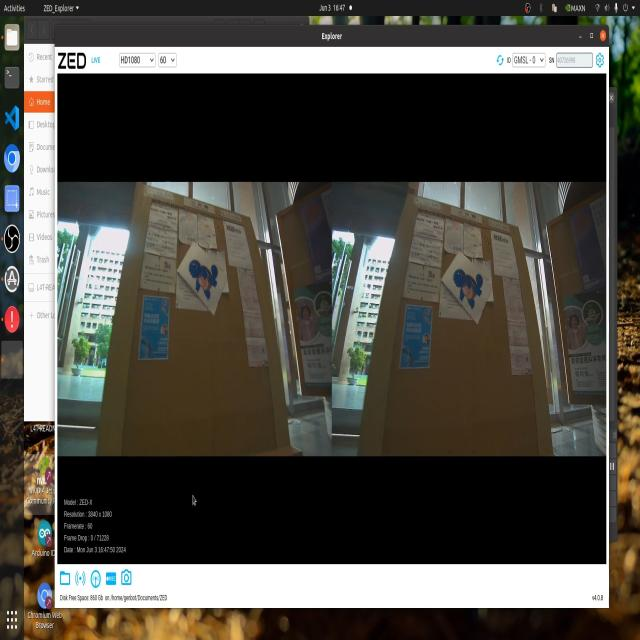blue: (448, 262, 490, 322), (181, 248, 222, 306)
